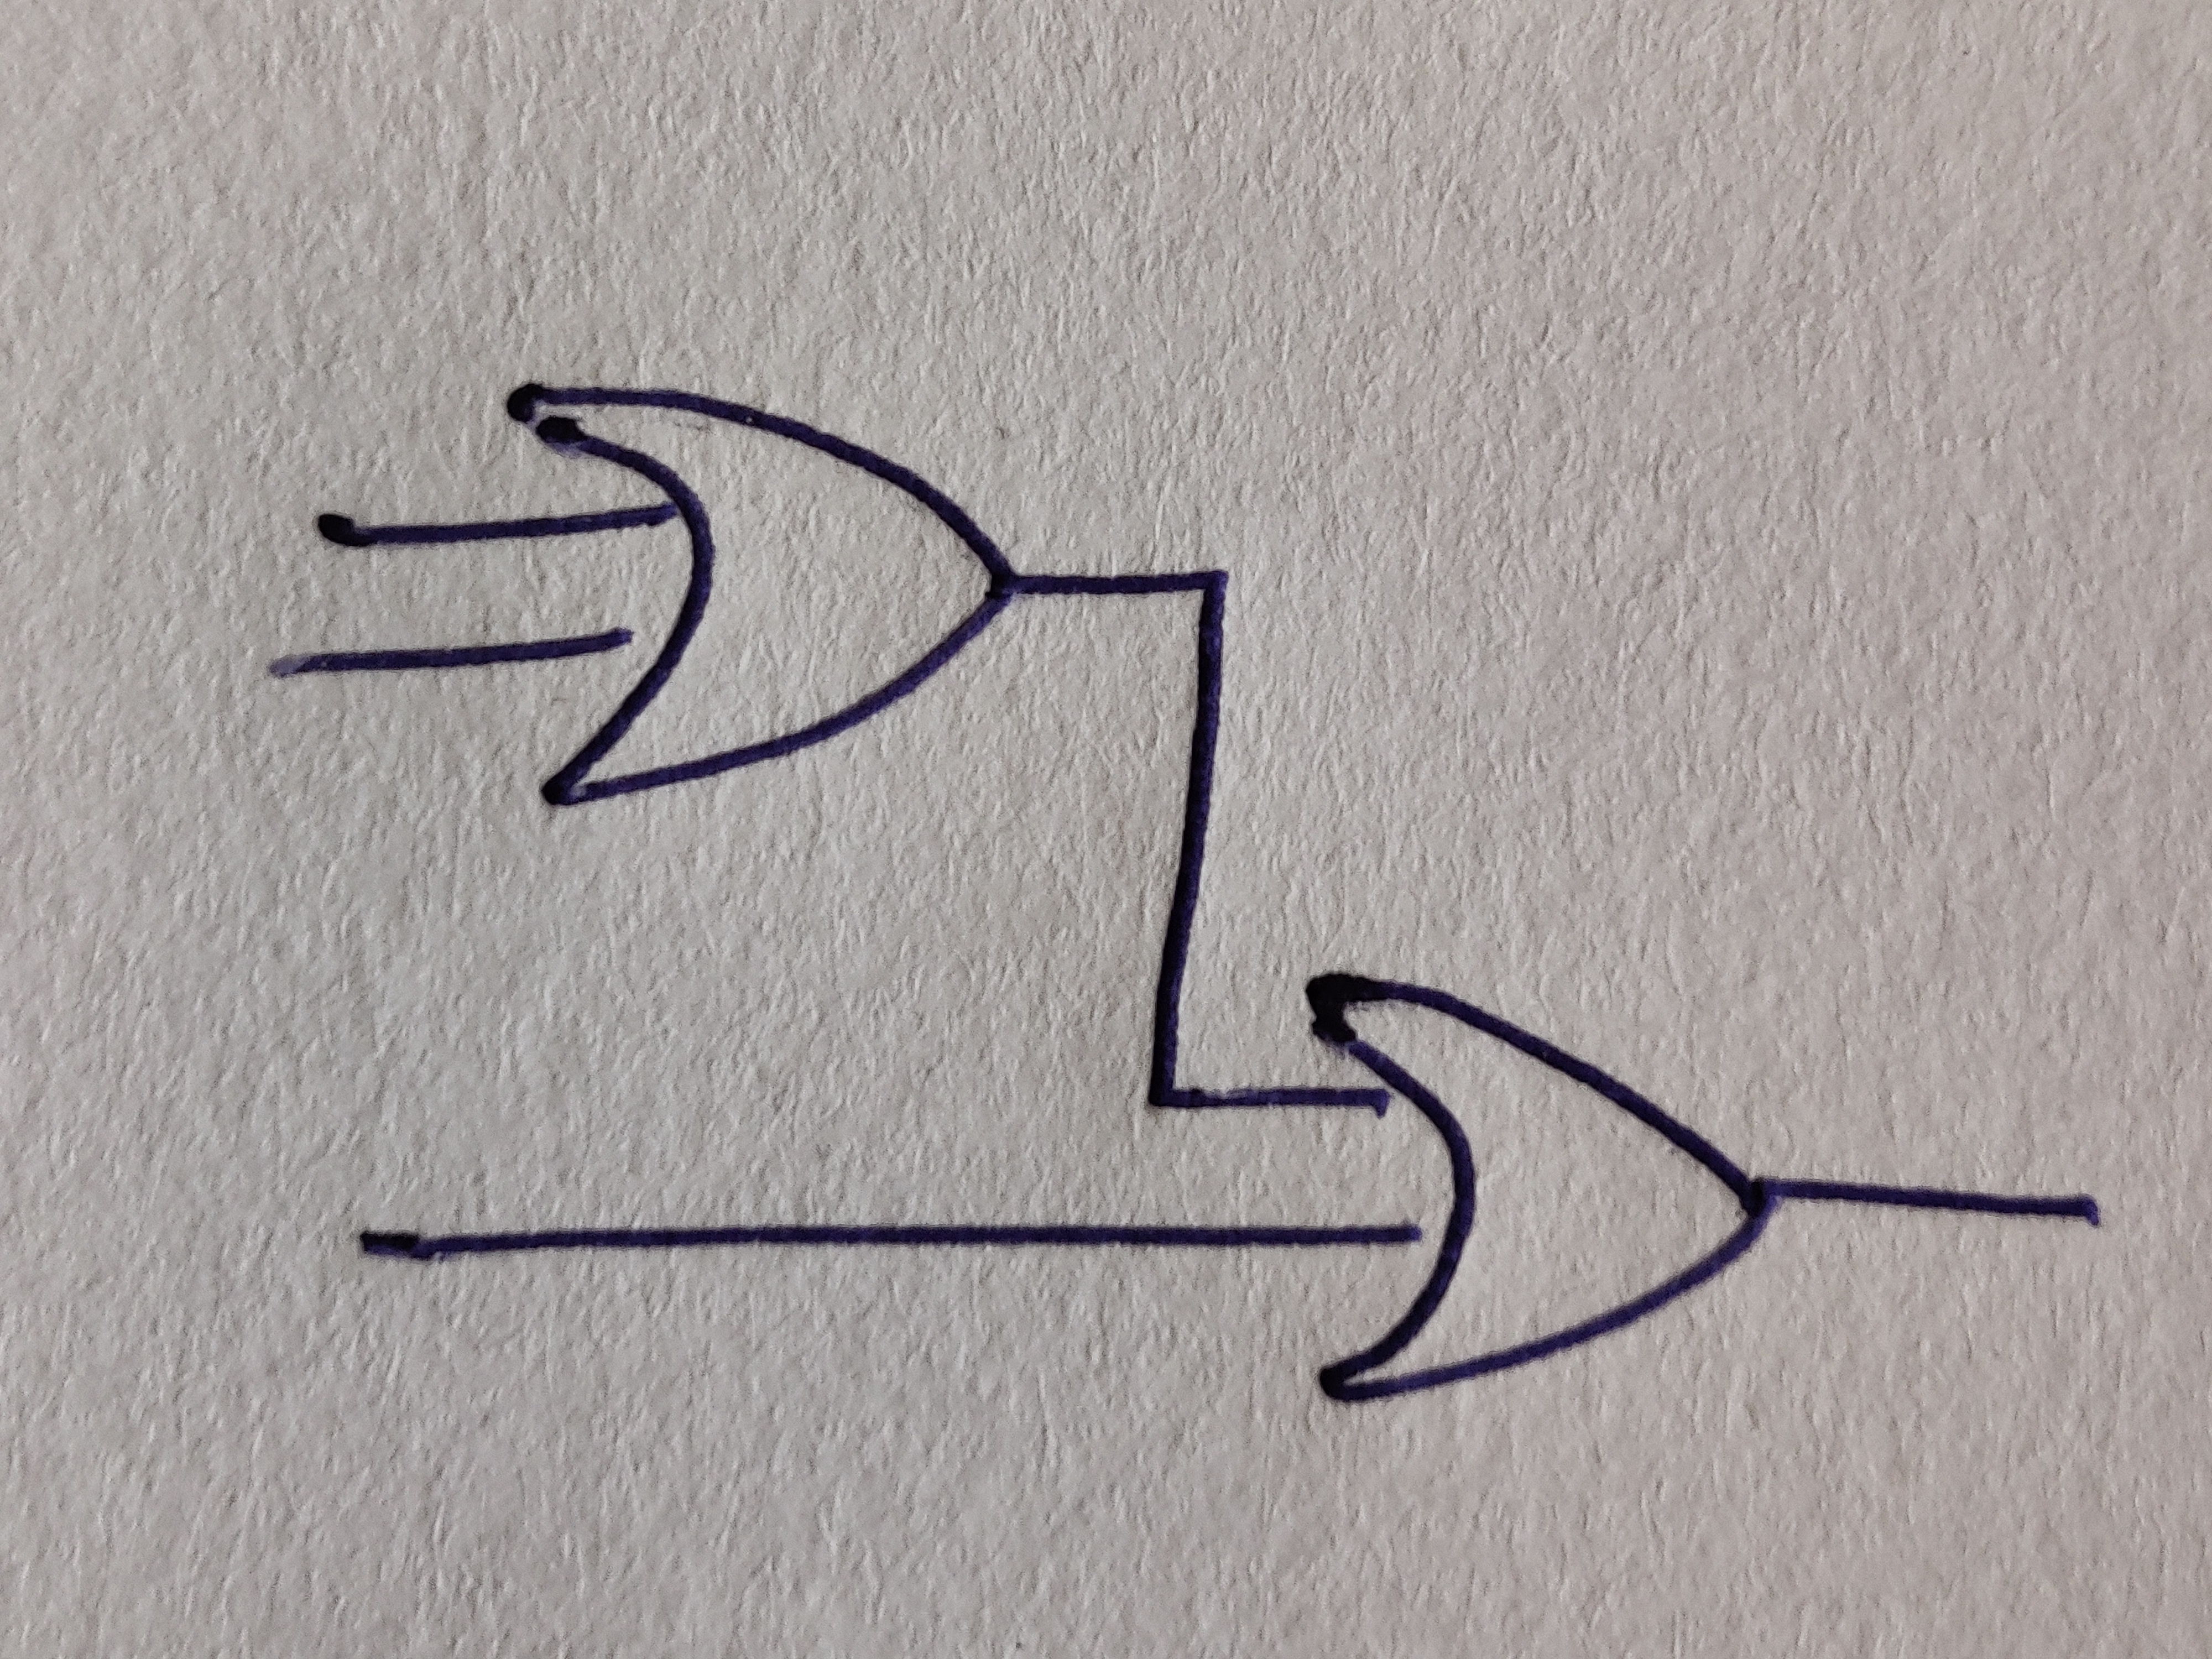or: (507, 383, 1015, 809), (1308, 972, 1778, 1401)
